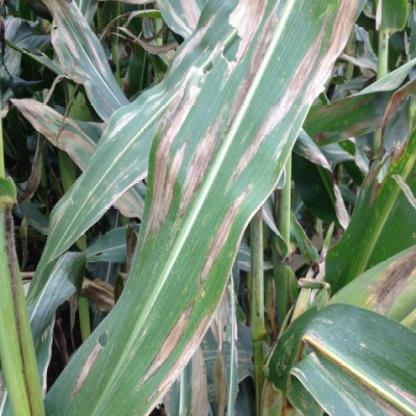corn leaf blight: (41, 1, 371, 415), (24, 6, 208, 298), (269, 308, 415, 412)
